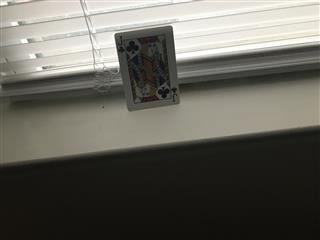JackOfClubs: (113, 24, 180, 111)
